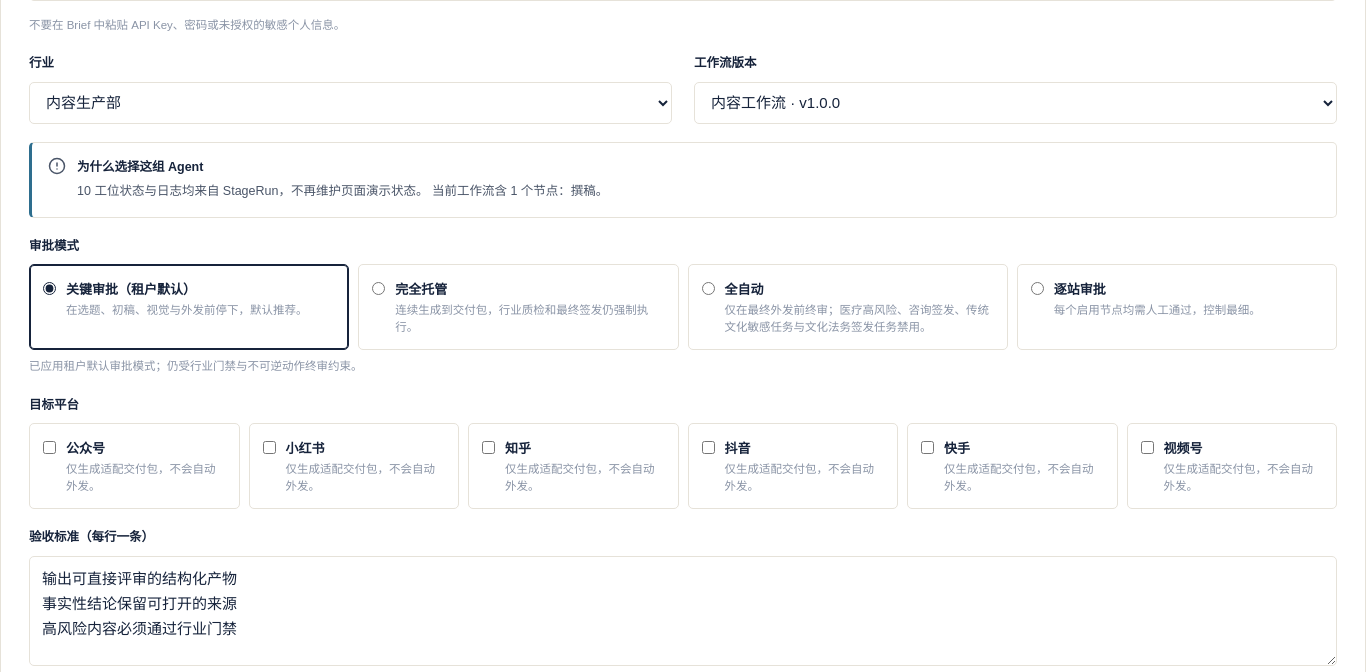
Test: 下达任务表单 › 医疗任务禁用全自动，并在行业切换后恢复安全默认值
(page scrolled)
Check: the dropdown labelled "工作流版本" shows "内容工作流 · v1.0.0", box [694,82,1337,124]
Click the radio button labelled "全自动 仅在最终外发前终审；医疗高风险、咨询签发、传统文化敏感任务与文化法务签发任务禁用。" at (708, 289), box [702,282,714,295]
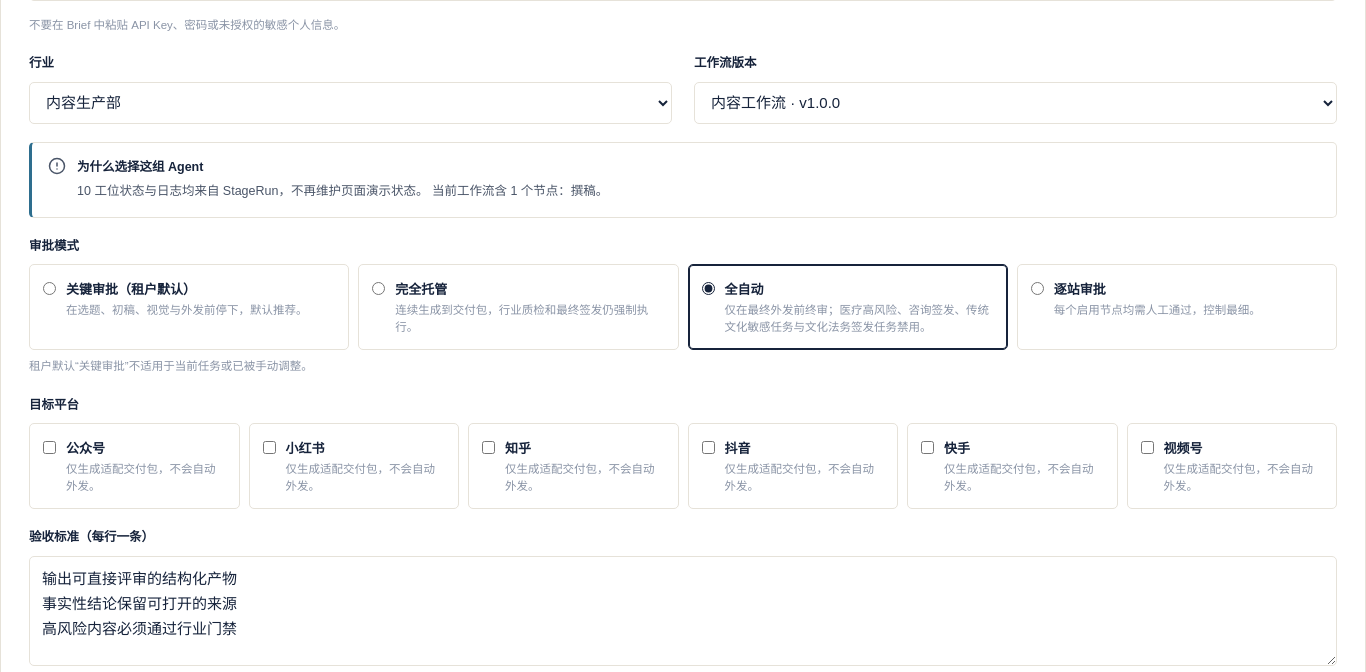
Check: the radio button labelled "全自动 仅在最终外发前终审；医疗高风险、咨询签发、传统文化敏感任务与文化法务签发任务禁用。" is checked, box [702,282,714,295]
Select "医疗器械产业部" in the dropdown labelled "行业" at (350, 103), box [29,82,672,124]
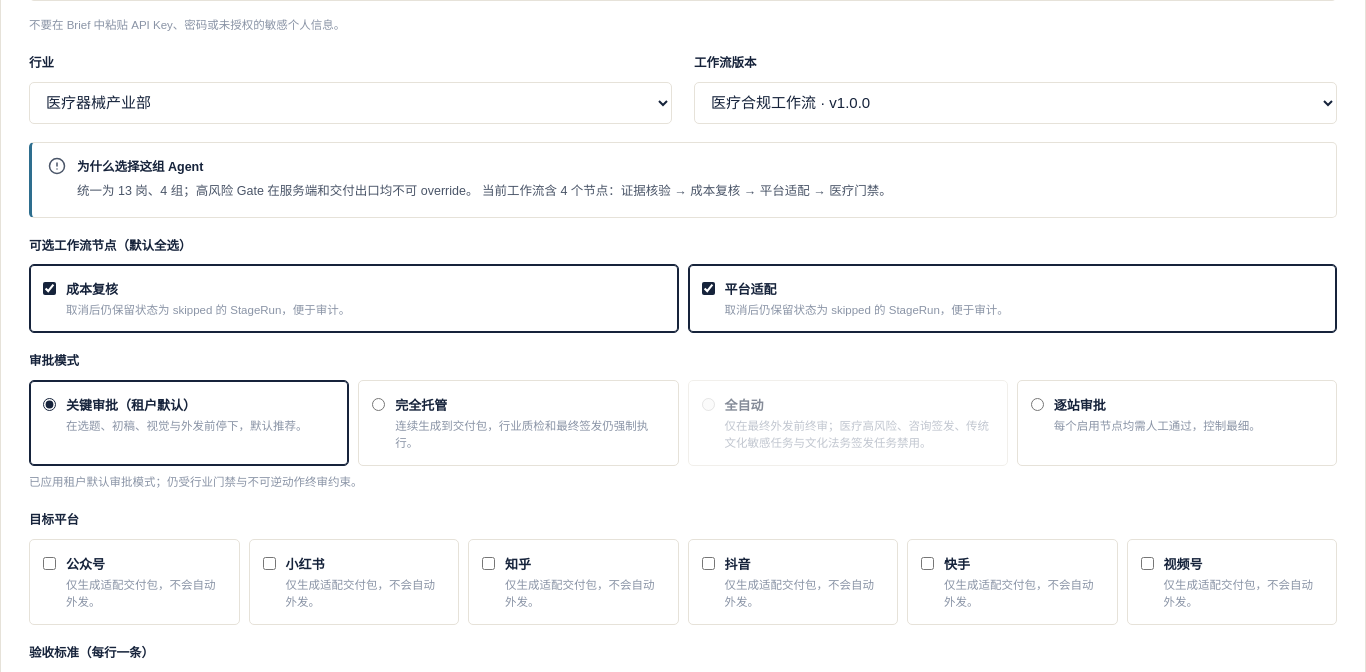
Check: the radio button labelled "关键审批（租户默认） 在选题、初稿、视觉与外发前停下，默认推荐。" is checked, box [43,398,56,411]
Check: the dropdown labelled "工作流版本" shows "医疗合规工作流 · v1.0.0", box [694,82,1337,124]
Check: the text "统一为 13 岗、4 组；高风险 Gate 在服务端和交付出口均不可 override。" is shown, box [77,184,478,198]
